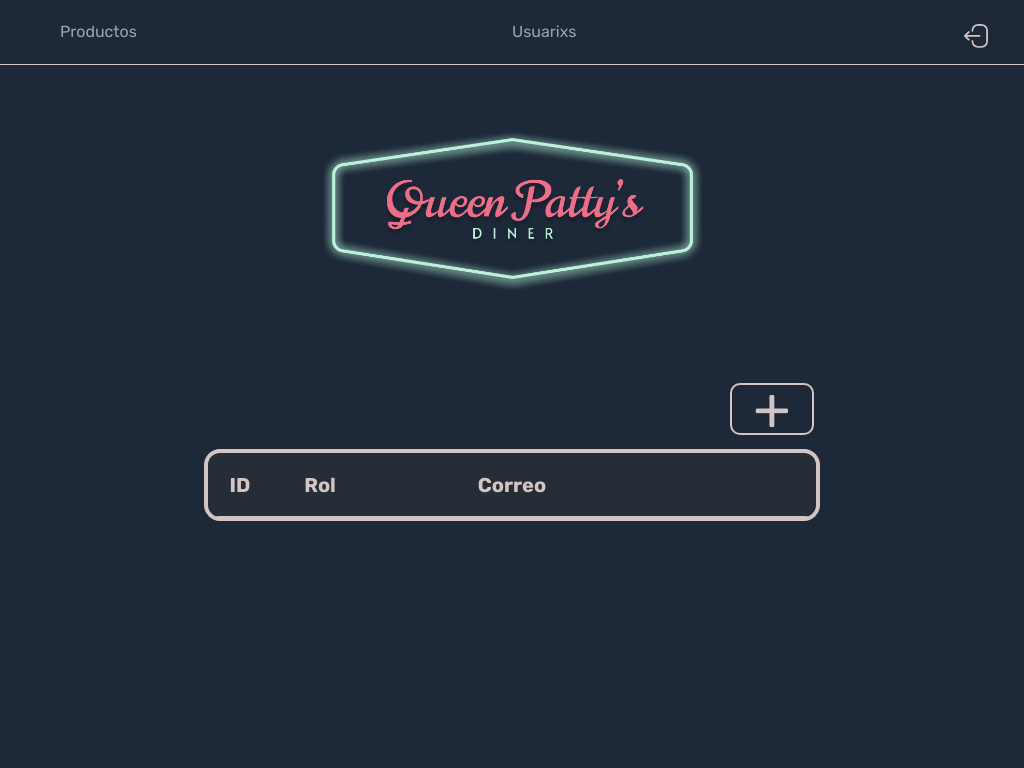
Admon › Displays the add user modal
Click the button with test id "add-user-btn": (772, 409) x1=732 y1=385 x2=812 y2=433
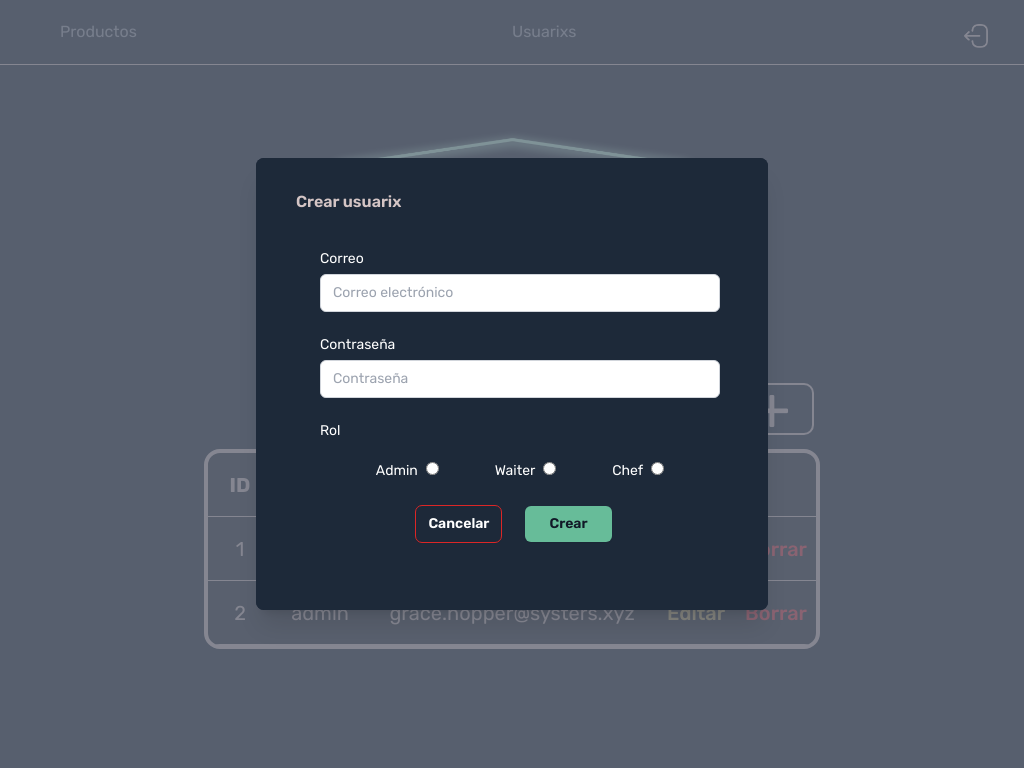
Expected: the button "Crear" is shown, x1=526 y1=506 x2=612 y2=542
